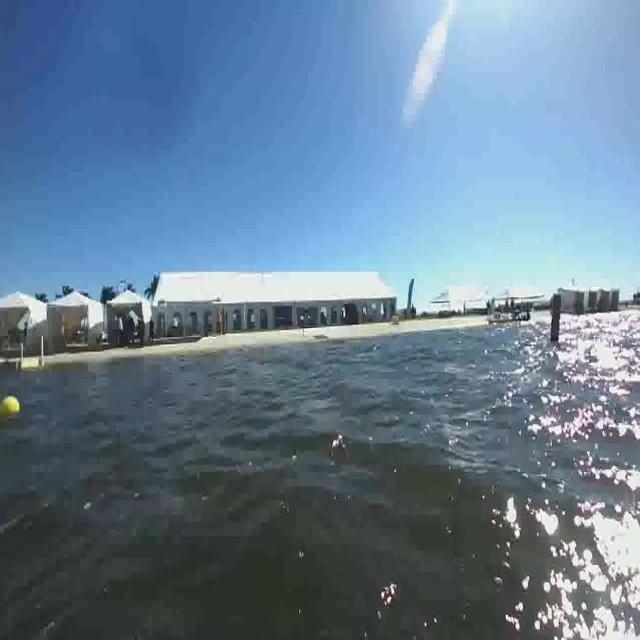yellow-buoy: (1, 398, 21, 418)
